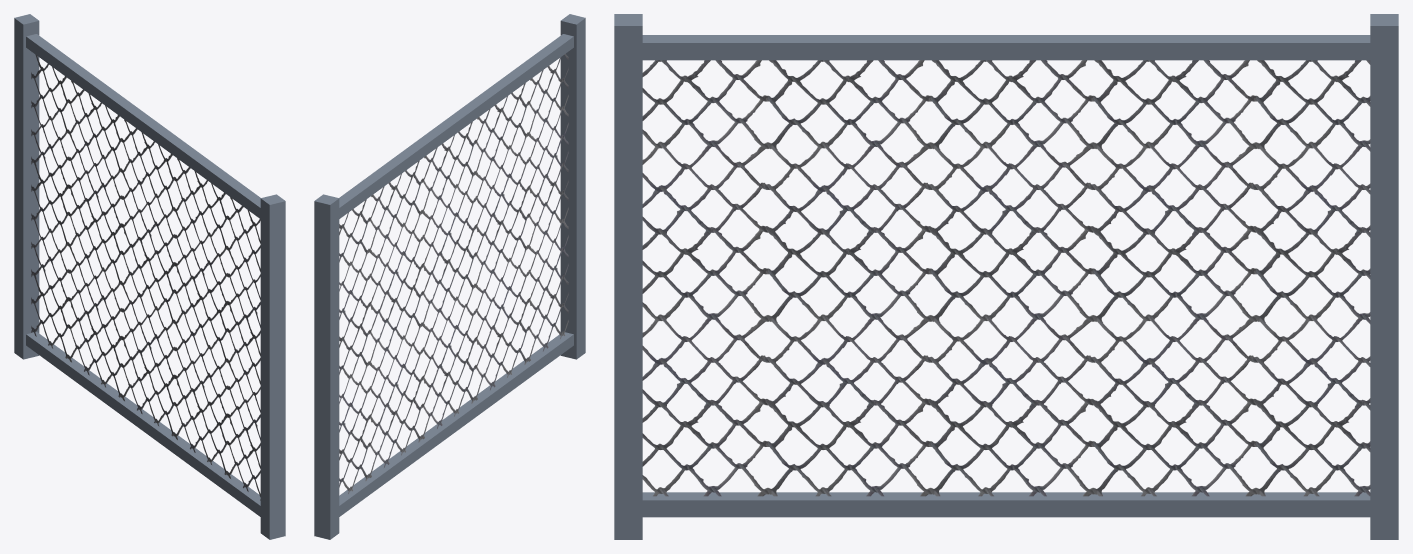
The model's file is wire_fence.glb.
The picture shows the model from 3 angles, left to right: view 1: azimuth 30°, elevation 25°; view 2: azimuth 150°, elevation 25°; view 3: azimuth 270°, elevation 25°; orthographic projection. The views are drawn at different scales.
Parts seen in each view (by area): view 1: Empty.001, Left, Right, Top, Bottom; view 2: Empty.001, Right, Left, Top, Bottom; view 3: Empty.001, Top, Bottom, Left, Right.
Part boxes in pixels (x1,y1,x2,y2): Empty.001: [31, 55, 260, 500]; Left: [260, 194, 285, 539]; Right: [14, 14, 39, 359]; Top: [26, 34, 260, 218]; Bottom: [26, 331, 260, 516]; Empty.001: [339, 54, 568, 493]; Right: [314, 194, 339, 539]; Left: [560, 14, 585, 359]; Top: [339, 34, 573, 218]; Bottom: [339, 332, 573, 516]; Empty.001: [642, 60, 1370, 496]; Top: [642, 35, 1370, 60]; Bottom: [642, 492, 1370, 517]; Left: [614, 14, 642, 539]; Right: [1370, 14, 1398, 539].
Bounding box in the file's own units: 0.15 × 3 × 4.15.
Materials: 2 (1 with a texture image).
